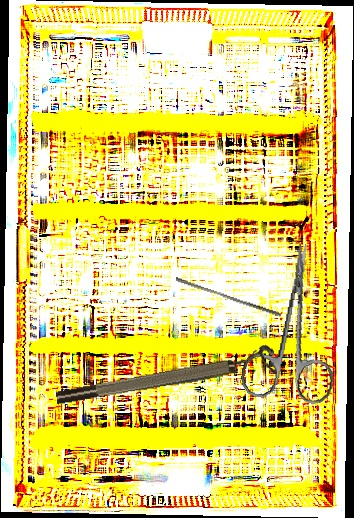Fixation Ring: (53, 343, 278, 409)
Iris Scissors: (238, 236, 353, 408)
Pusher: (174, 276, 283, 318)
